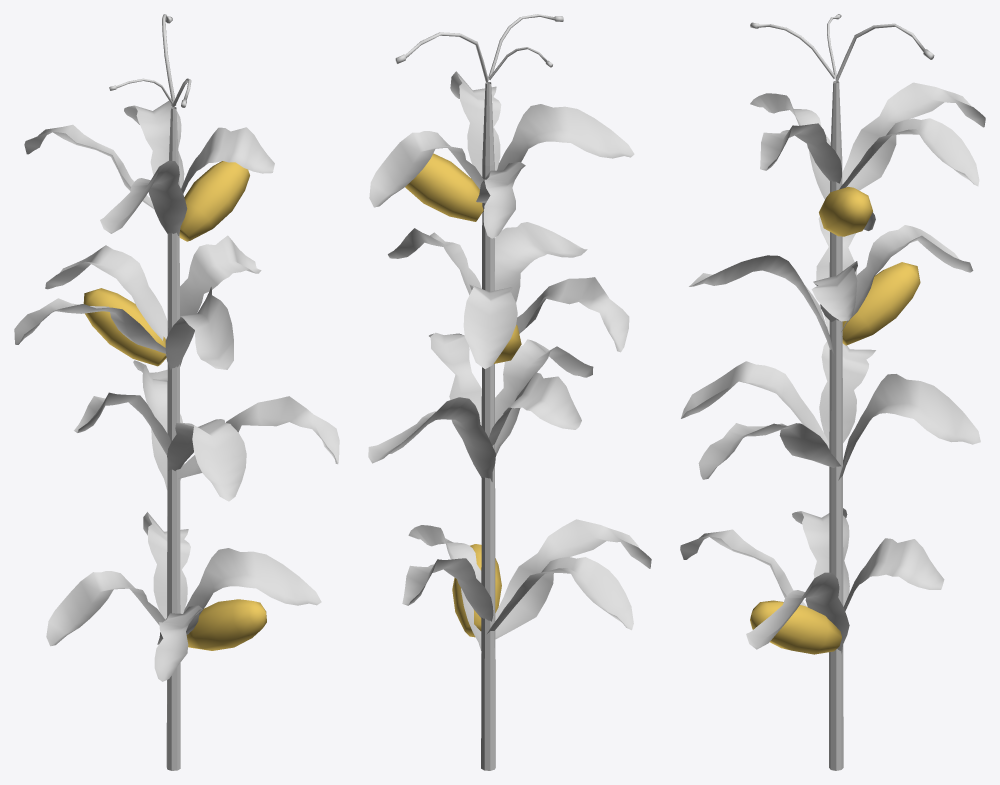
The model's file is Veg_cornMedium.fbx.
The picture shows the model from 3 angles, left to right: view 1: azimuth 30°, elevation 25°; view 2: azimuth 150°, elevation 25°; view 3: azimuth 270°, elevation 25°; orthographic projection. The views are drawn at different scales.
Parts seen in each view (by area): view 1: Cylinder.016, Plane.050, Plane.034, Plane.042, mazorca.011, Plane.048, Plane.040, Plane.046, mazorca.008, Plane.041, Plane.039, mazorca.012 (+8 smaller); view 2: Cylinder.016, Plane.051, Plane.046, Plane.042, Plane.040, Plane.048, Plane.044, Plane.038, mazorca.011, Plane.034, Plane.043, Plane.035 (+8 smaller); view 3: Cylinder.016, Plane.038, Plane.047, mazorca.012, Plane.034, Plane.039, Plane.050, mazorca.008, Plane.049, Plane.044, Plane.040, Plane.035 (+9 smaller).
Boxes of the visible parts, bbox=[...] form: Cylinder.016: bbox=[166, 106, 180, 770]; Plane.050: bbox=[184, 548, 321, 615]; Plane.034: bbox=[167, 419, 246, 501]; Plane.042: bbox=[165, 287, 233, 369]; mazorca.011: bbox=[179, 161, 249, 241]; Plane.048: bbox=[46, 571, 164, 646]; Plane.040: bbox=[45, 245, 167, 340]; Plane.046: bbox=[100, 161, 187, 235]; mazorca.008: bbox=[186, 599, 266, 650]; Plane.041: bbox=[180, 235, 261, 315]; Plane.039: bbox=[178, 396, 339, 478]; mazorca.012: bbox=[83, 288, 166, 366]; Cylinder.016: bbox=[481, 82, 495, 770]; Plane.051: bbox=[495, 519, 651, 639]; Plane.046: bbox=[497, 104, 634, 170]; Plane.042: bbox=[494, 222, 587, 302]; Plane.040: bbox=[463, 284, 517, 368]; Plane.048: bbox=[487, 557, 633, 633]; Plane.044: bbox=[369, 131, 483, 207]; Plane.038: bbox=[368, 397, 495, 481]; mazorca.011: bbox=[405, 153, 483, 221]; Plane.034: bbox=[495, 339, 593, 455]; Plane.043: bbox=[516, 277, 629, 352]; Plane.035: bbox=[489, 372, 581, 445]; Cylinder.016: bbox=[829, 80, 843, 770]; Plane.038: bbox=[838, 374, 980, 480]; Plane.047: bbox=[842, 82, 985, 190]; mazorca.012: bbox=[842, 262, 920, 345]; Plane.034: bbox=[681, 361, 829, 448]; Plane.039: bbox=[698, 423, 840, 479]; Plane.050: bbox=[746, 572, 849, 653]; mazorca.008: bbox=[750, 600, 841, 654]; Plane.049: bbox=[843, 538, 944, 610]; Plane.044: bbox=[839, 118, 979, 189]; Plane.040: bbox=[841, 225, 973, 331]; Plane.035: bbox=[819, 341, 875, 442].
Bounding box in the file's own units: 82.69 × 225 × 82.24.
